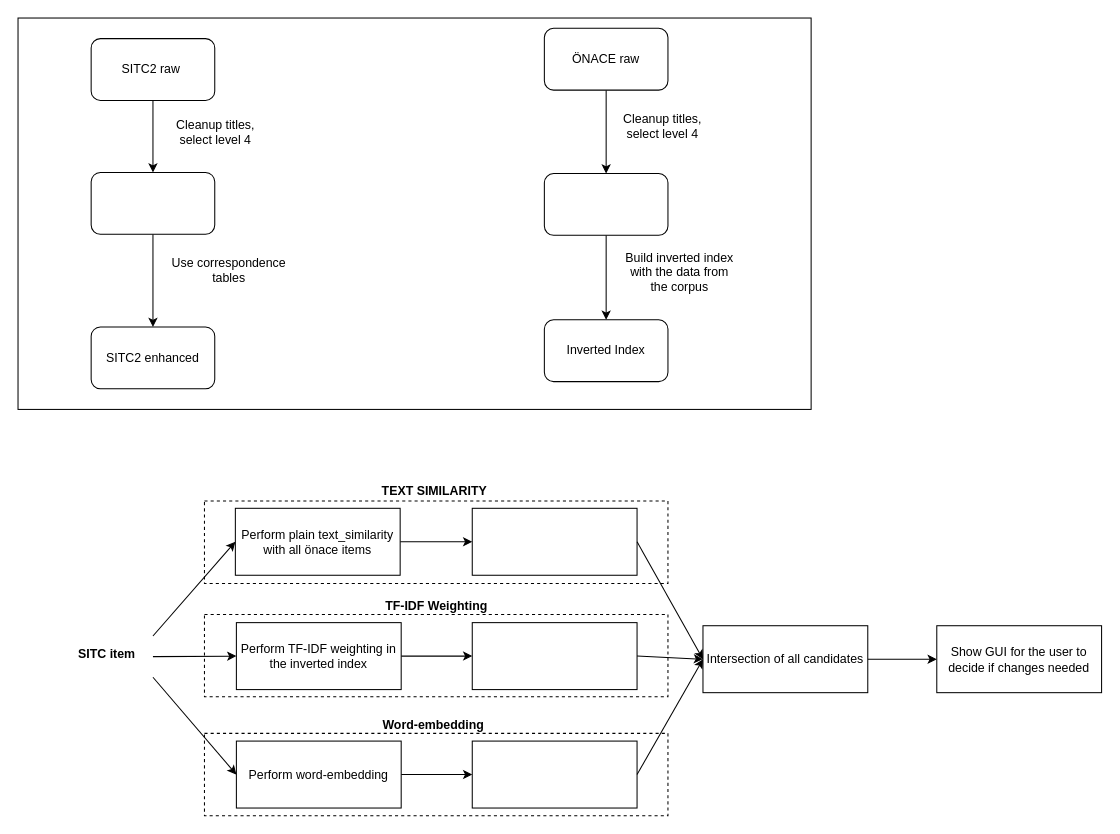
The diagram is 1120 pixels wide and 834 high, and some of its shapes have lost their labels. The centre of each missing label's shape, as x and y in pixels:
SITC2 preprocessed: the point at 152,202
Text similarity candidates: the point at 554,541
TF-IDF candidates: the point at 554,656
Word-Embedding candidates: the point at 554,774
ÖNACE preprocessed: the point at 605,204
